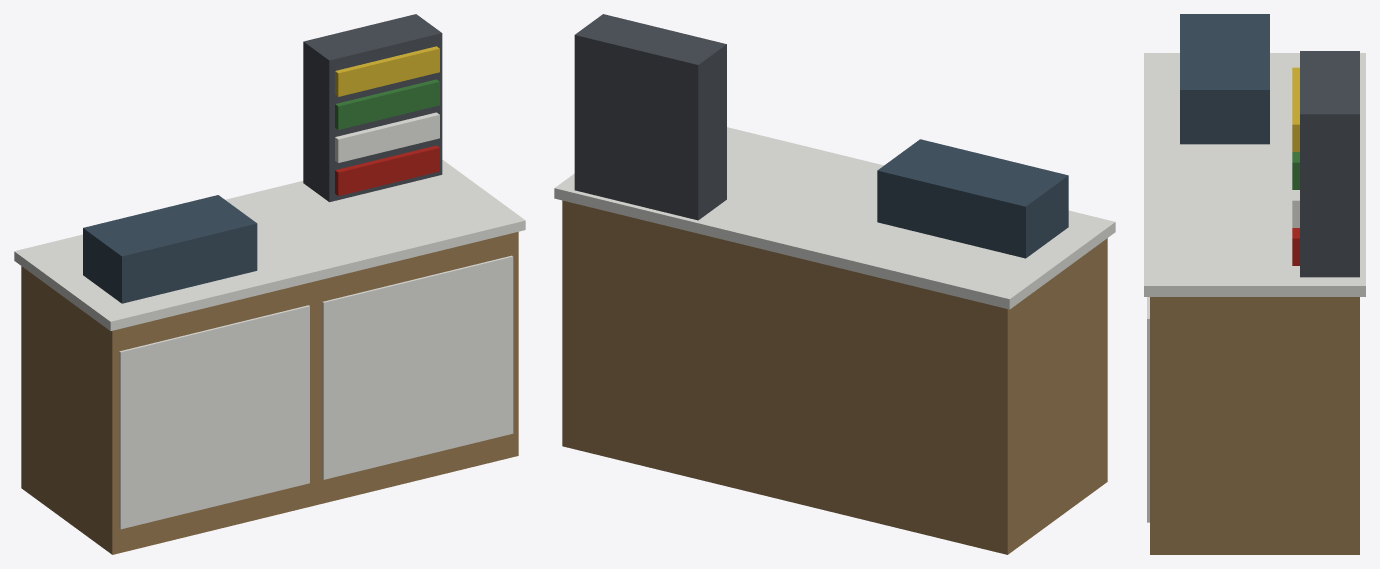
File: shop counter.glb
The picture shows the model from 3 angles, left to right: view 1: azimuth 30°, elevation 25°; view 2: azimuth 150°, elevation 25°; view 3: azimuth 270°, elevation 25°; orthographic projection. The views are drawn at different scales.
Parts seen in each view (by area): view 1: shop counter; view 2: shop counter; view 3: shop counter.
Boxes of the visible parts, x1,y1,x2,y2 form: shop counter: (14, 14, 525, 554); shop counter: (554, 14, 1115, 554); shop counter: (1144, 14, 1365, 554).
Size of the model in its own units: 1.84 by 1.6 by 0.74.
